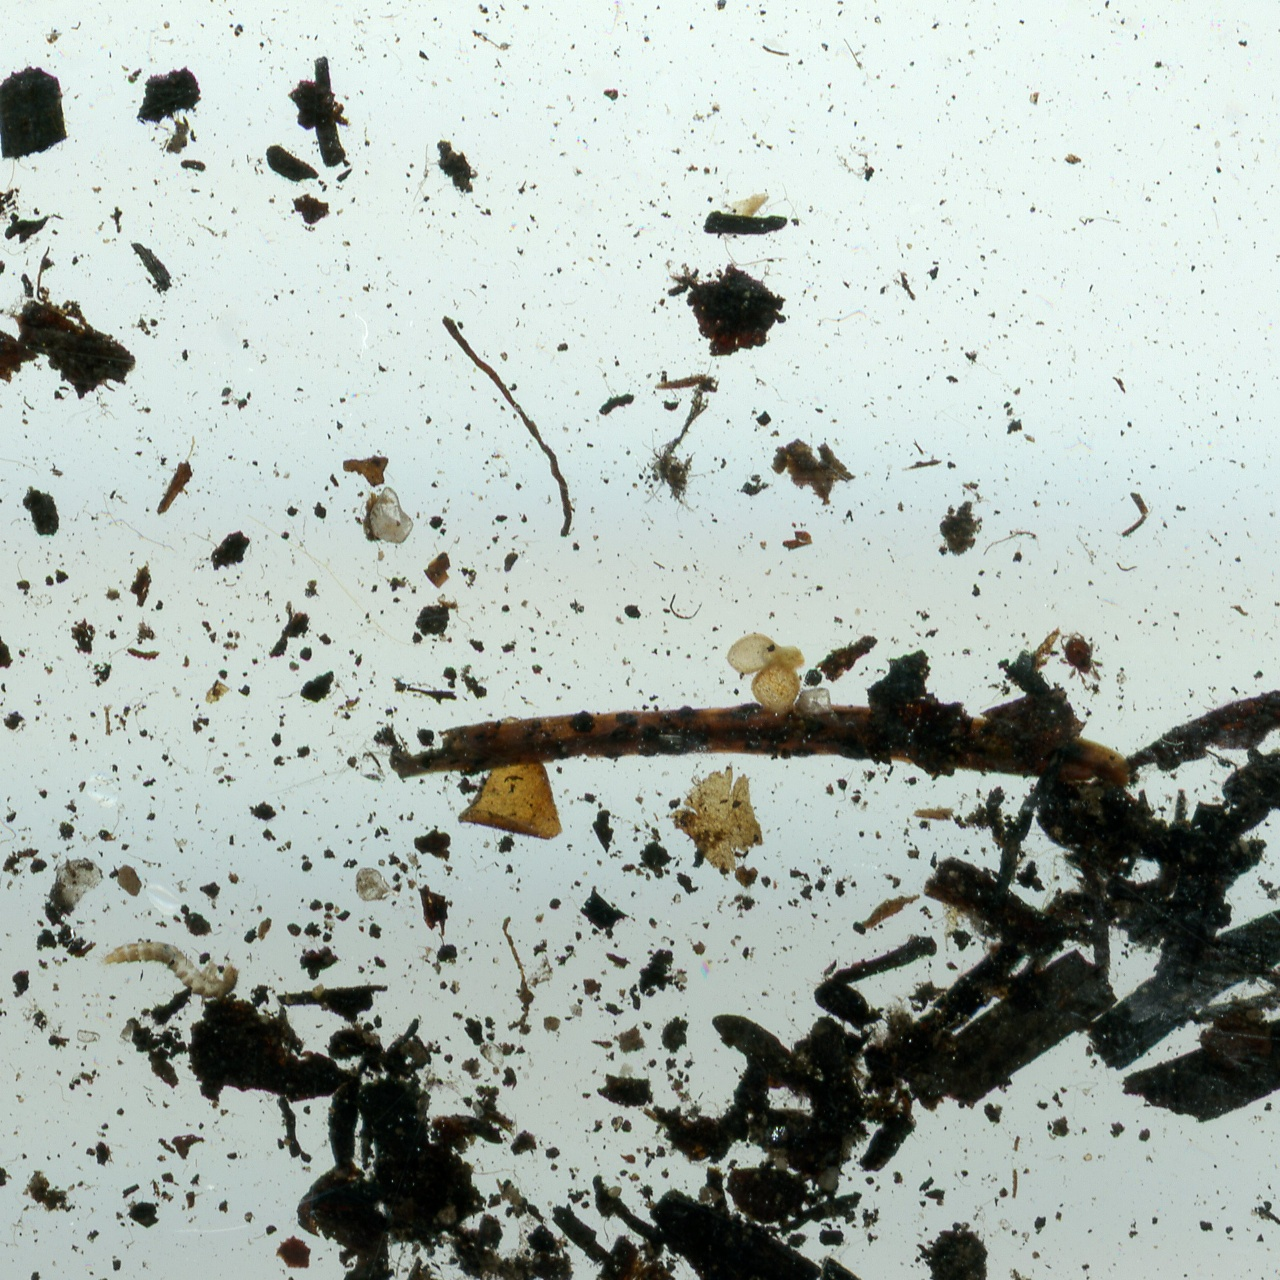arthropod: (96, 934, 241, 1005), (1047, 620, 1117, 699)
